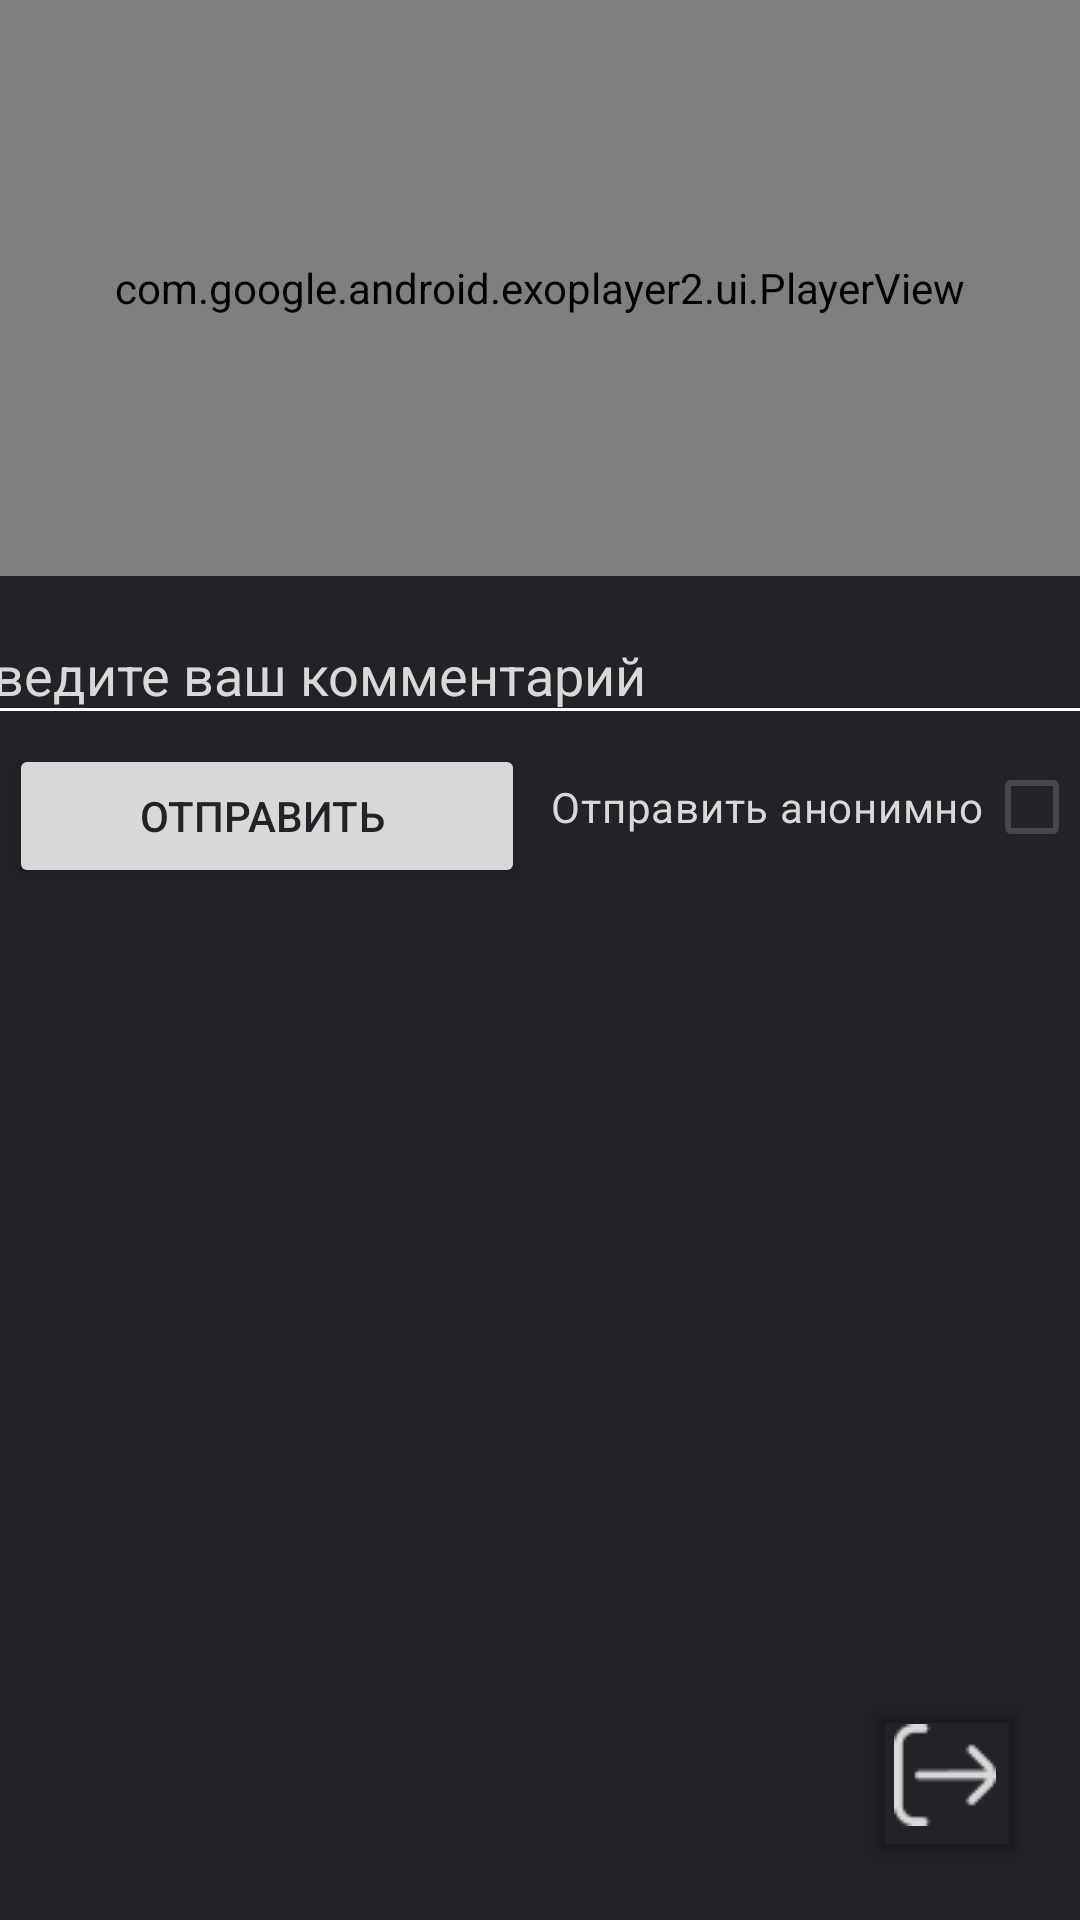

Icons on this 1080x1920 Android screen, each with its box as (x1, y1, x2, y2):
exit: (894, 1724, 996, 1826)
